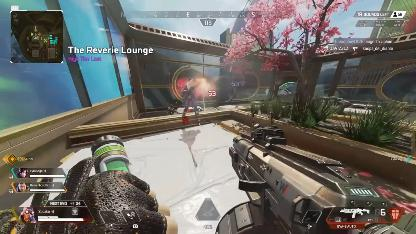Target: (179, 78, 199, 118)
